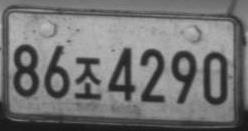0: (202, 50, 228, 105)
2: (139, 48, 165, 102)
4: (108, 46, 135, 101)
6: (44, 44, 70, 98)
8: (12, 43, 40, 97)
9: (170, 50, 197, 103)
조: (73, 56, 102, 99)
